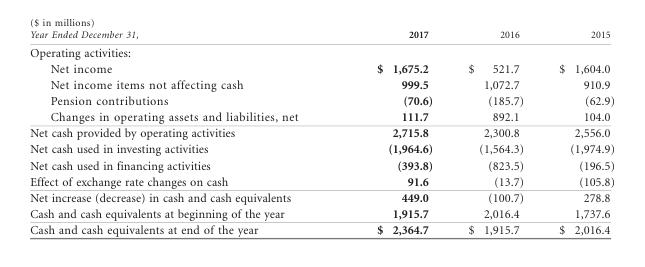table: (29, 29, 614, 235)
table column: (29, 29, 336, 235), (336, 29, 449, 235), (449, 29, 540, 235), (540, 29, 614, 235)
table column header: (29, 29, 614, 42)
table projected row header: (29, 42, 614, 60)
table row: (29, 42, 614, 60), (29, 156, 614, 173), (29, 60, 614, 76), (29, 76, 614, 92), (29, 92, 614, 108), (29, 108, 614, 124), (29, 124, 614, 140), (29, 140, 614, 156), (29, 173, 614, 189), (29, 189, 614, 205), (29, 205, 614, 221), (29, 221, 614, 235), (29, 29, 614, 42)
